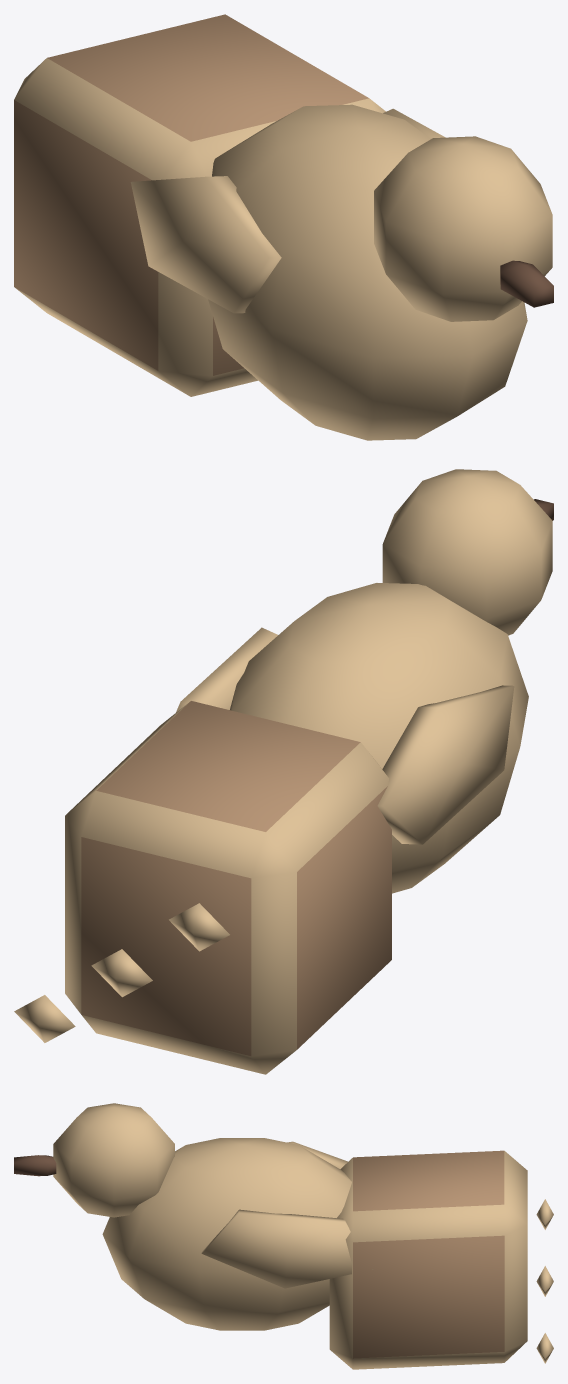
File: father_bird.glb
3 renders of one model, top to bottom at view 1: azimuth 30°, elevation 25°; view 2: azimuth 150°, elevation 25°; view 3: azimuth 270°, elevation 25°, orthographic. The views are drawn at different scales.
Parts seen in each view (by area): view 1: father_bird; view 2: father_bird; view 3: father_bird.
Boxes of the visible parts, left/top/right/bottom form: father_bird: left=14, top=14, right=553, bottom=440; father_bird: left=14, top=469, right=553, bottom=1074; father_bird: left=14, top=1103, right=553, bottom=1369.
Bounding box in the file's own units: 0.0335 × 0.044 × 0.0927.
